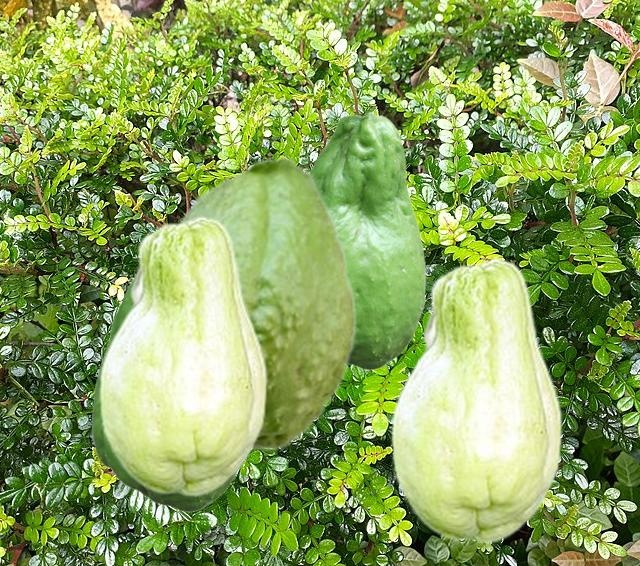sayote: (177, 154, 357, 451), (390, 257, 561, 543), (98, 215, 266, 496), (91, 274, 240, 511), (311, 111, 425, 369)
